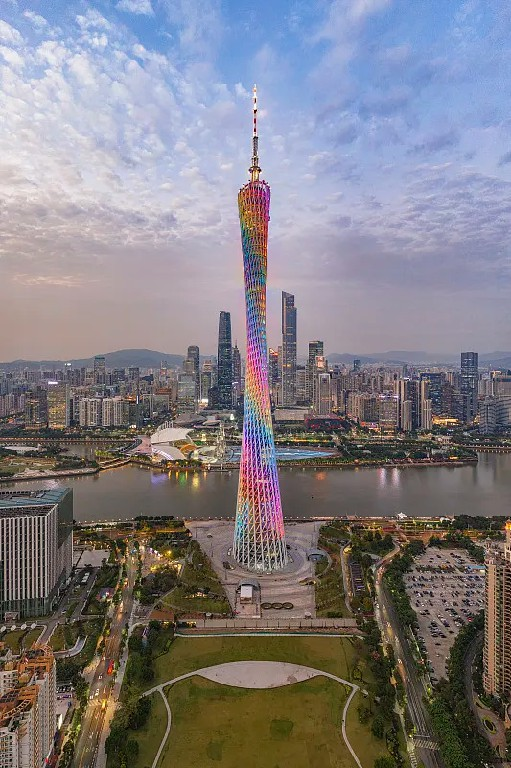Canton: (228, 87, 286, 575)
